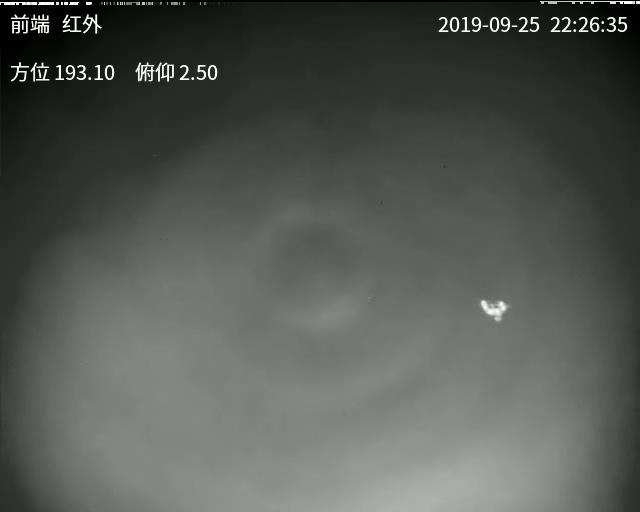uav: (479, 292, 508, 324)
